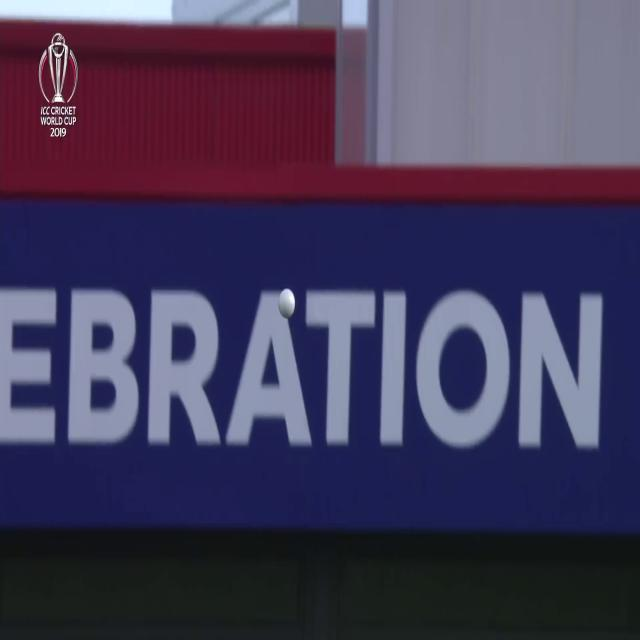ball: (273, 284, 300, 325)
